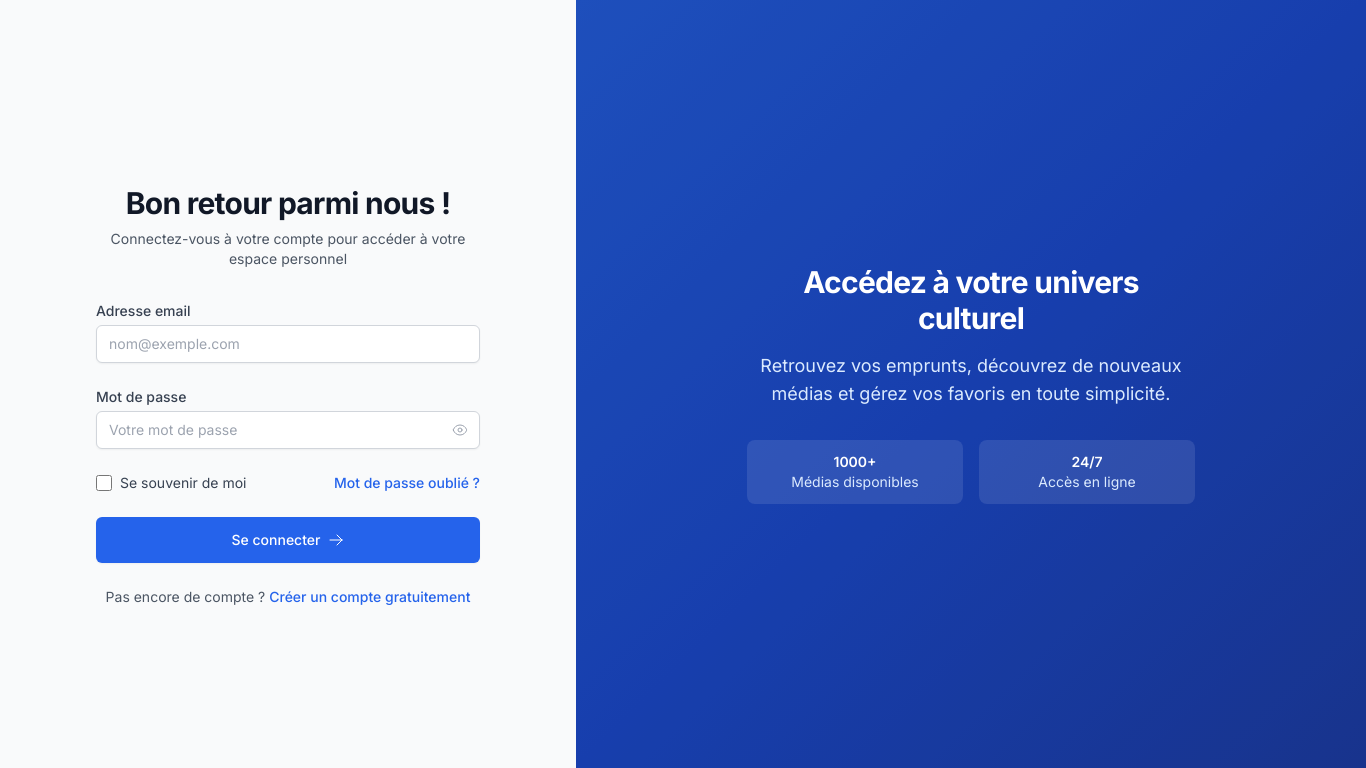
Test: LoginPage › devrait gérer les erreurs de connexion
In the field with placeholder "nom@exemple.com": x=288, y=344 [96,325,480,363], type "test@example.com"
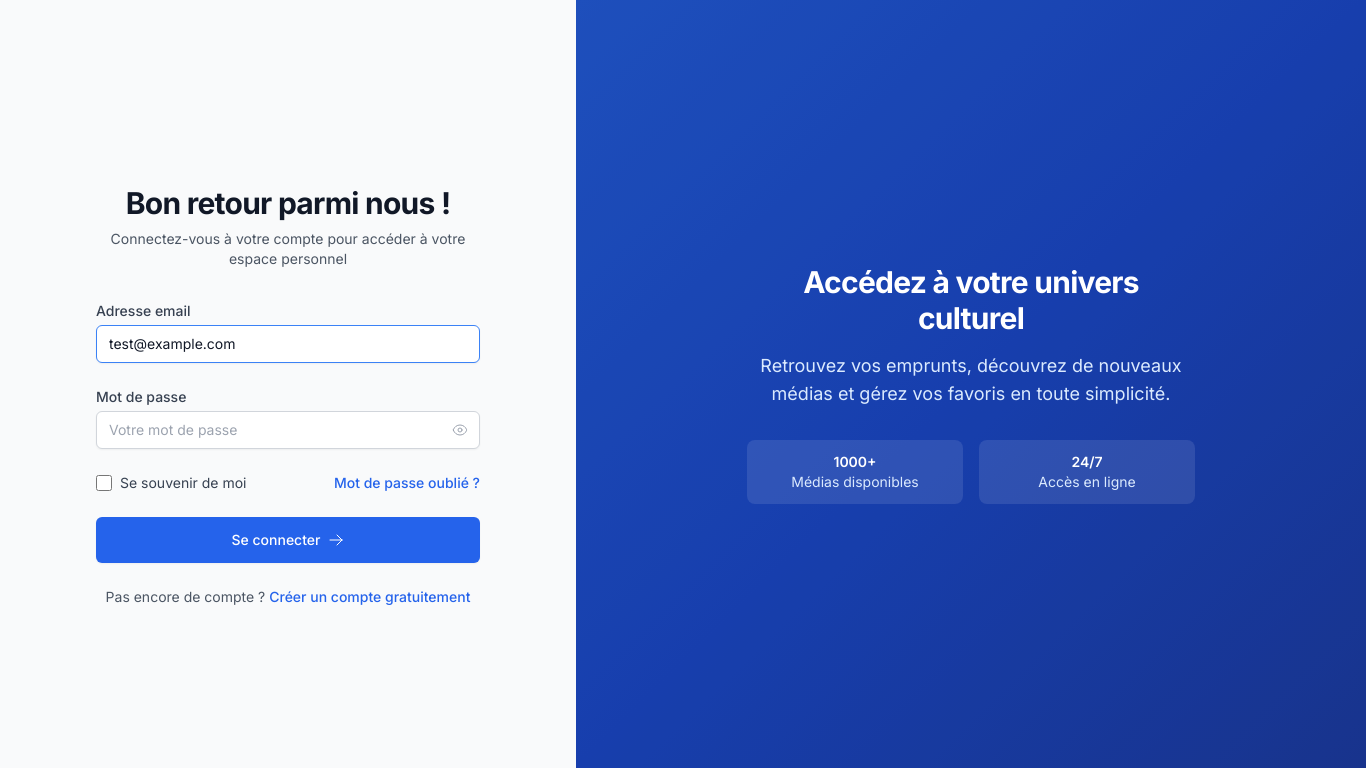
In the password field with placeholder "Votre mot de passe": x=288, y=430 [96,411,480,449], type "wrongpassword"
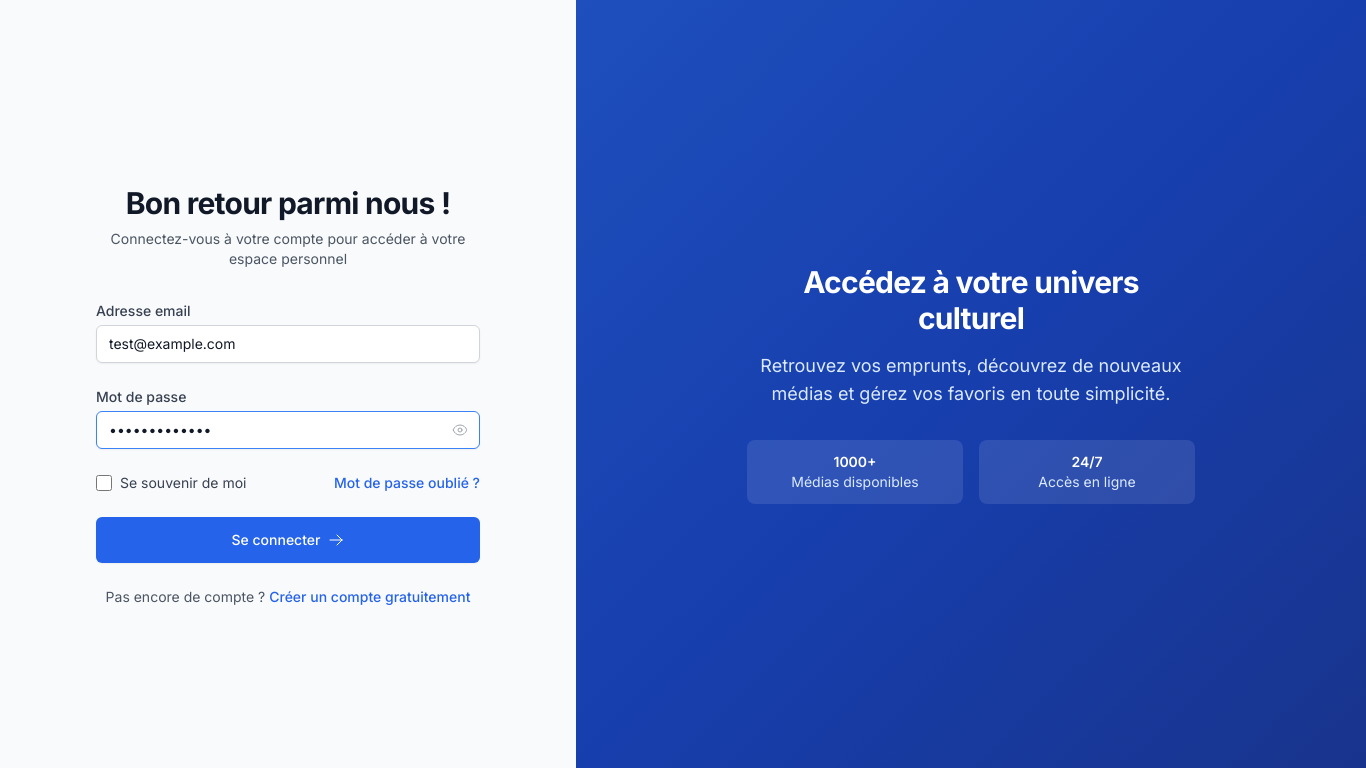
Click the button "Se connecter": x=288, y=540 [96,517,480,563]
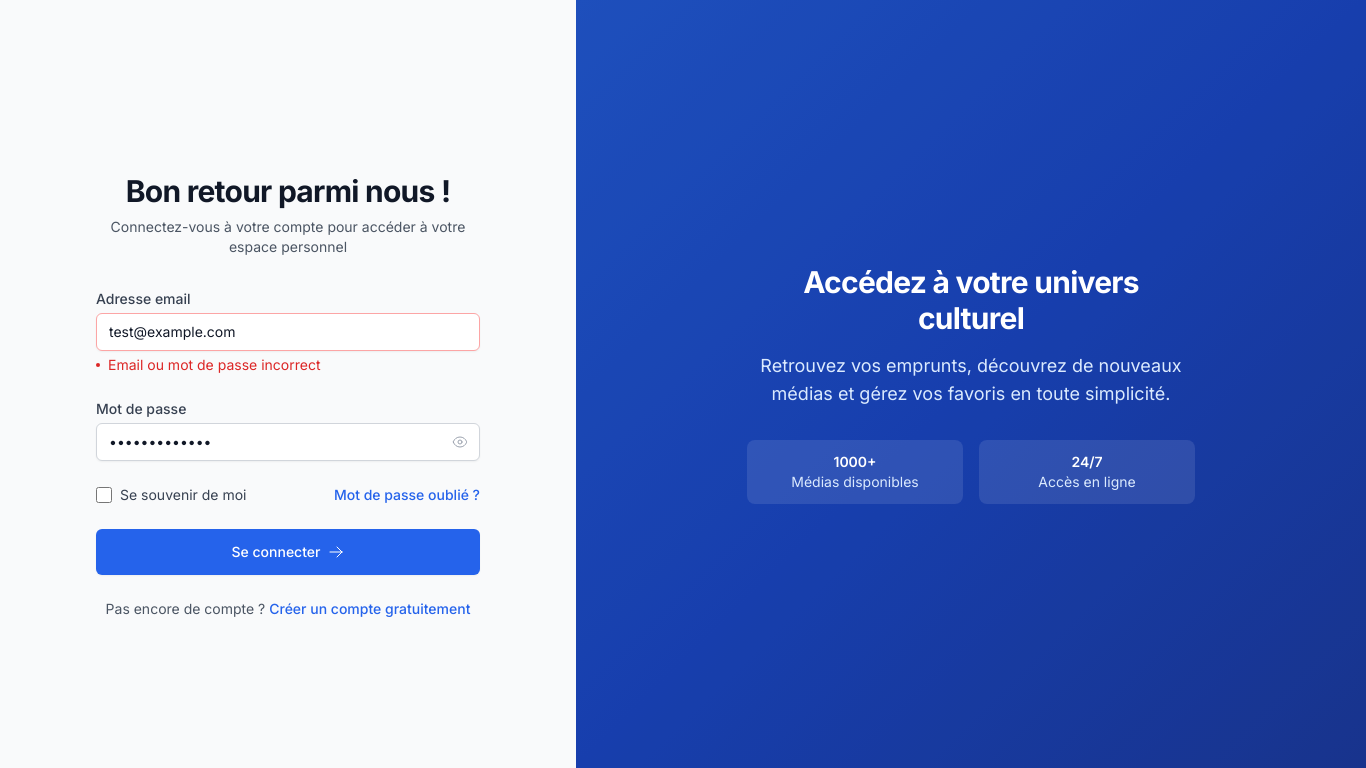
expect the text "Email ou mot de passe incorrect" is shown: met, box [96,356,320,373]
